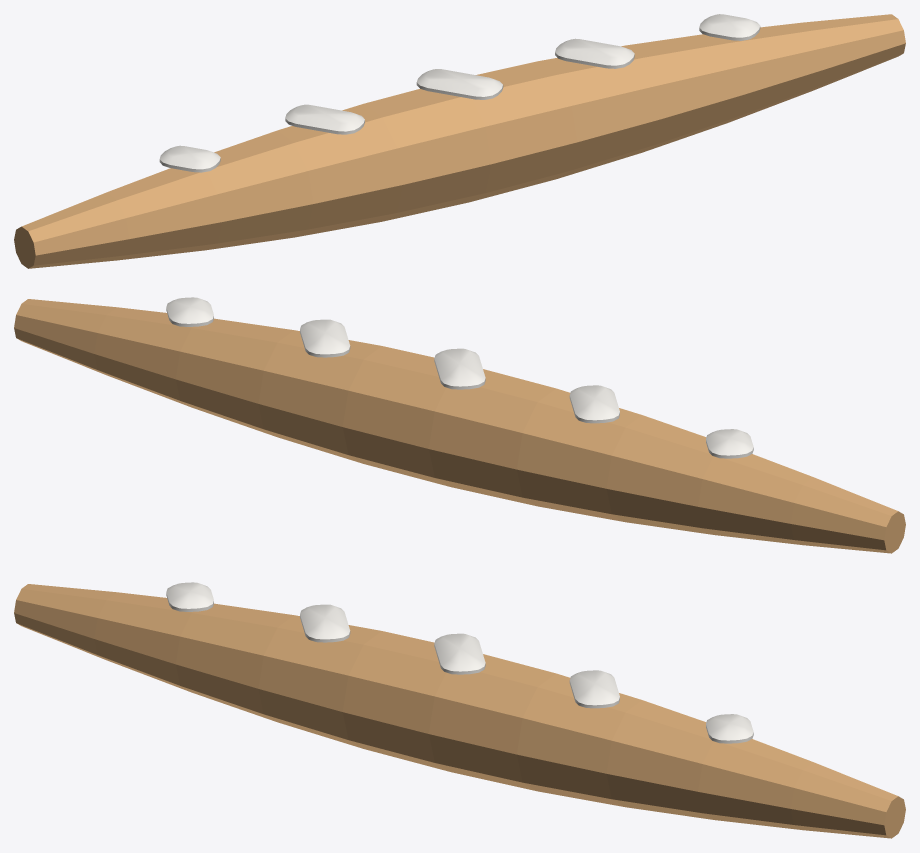
The model's file is bakery-and-cafe-baguette-93c1b6b8__22241.glb.
3 views of the same model, one above another, from view 1: azimuth 30°, elevation 25°; view 2: azimuth 150°, elevation 25°; view 3: azimuth 330°, elevation 25° (orthographic).
Parts seen in each view (by area): view 1: baguette; view 2: baguette; view 3: baguette.
Boxes of the visible parts, <box> form: baguette: <box>14,14,905,268</box>; baguette: <box>14,297,905,553</box>; baguette: <box>14,582,905,838</box>.
Size of the model in its own units: 0.58 by 0.0742 by 0.072.
